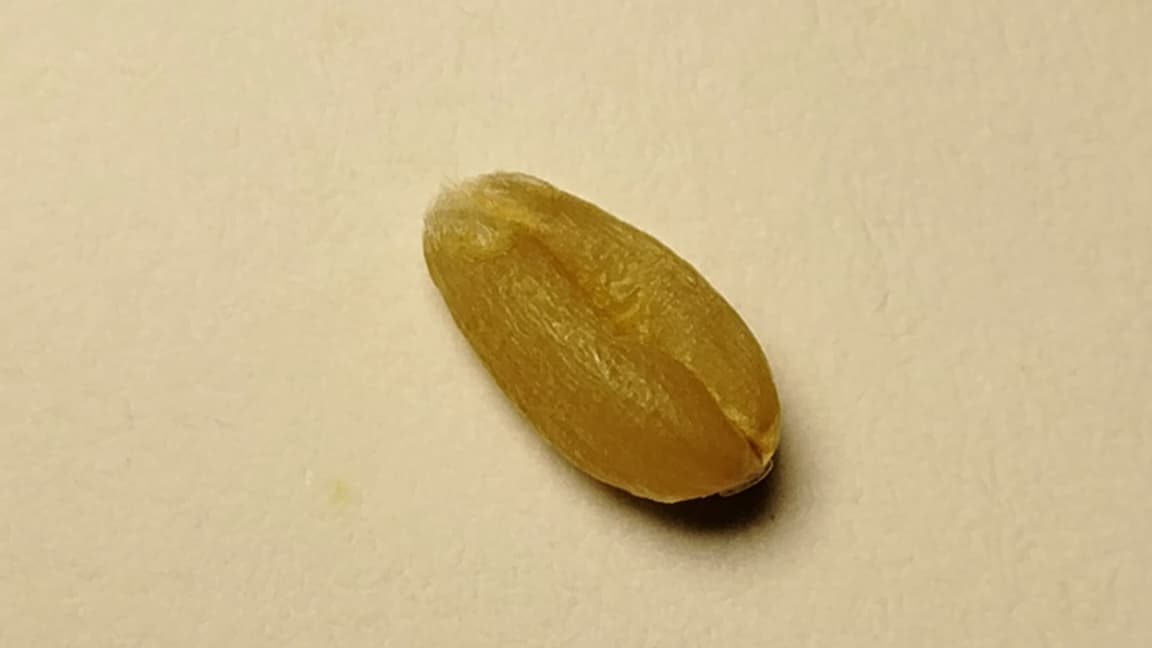healthy: (423, 173, 778, 501)
